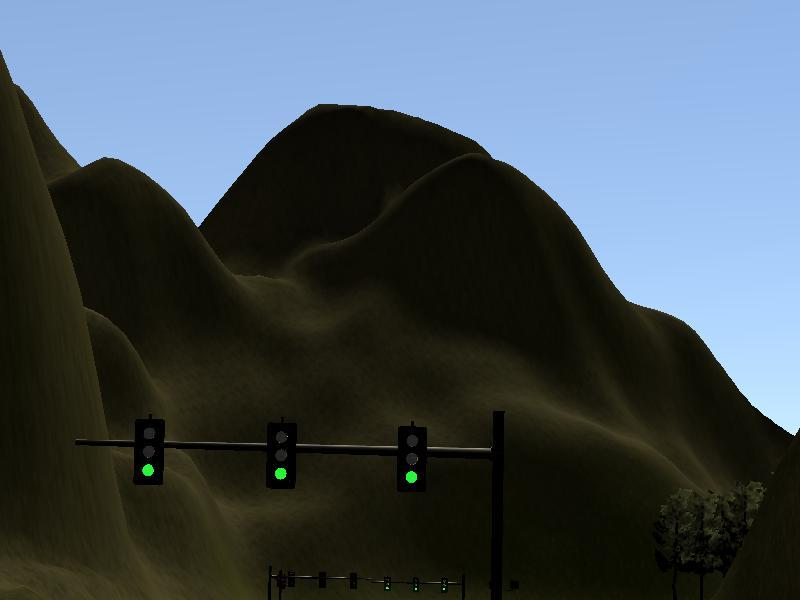Green: (133, 420, 162, 489), (266, 419, 295, 488), (398, 428, 423, 496)
